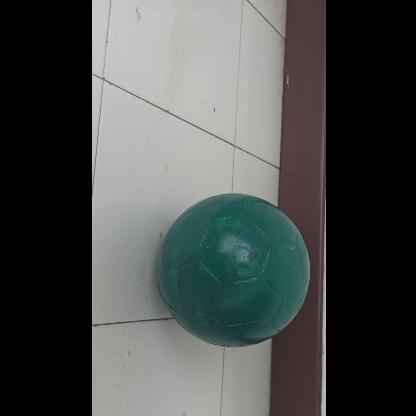green_ball: (156, 197, 310, 351)
